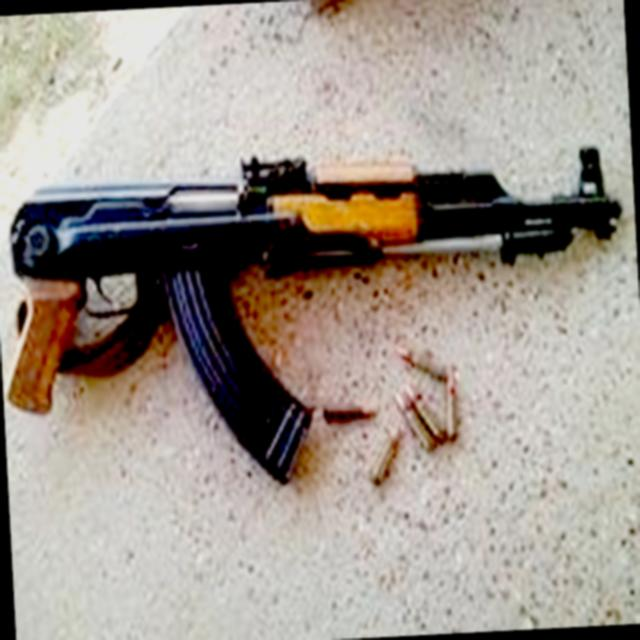ak: (0, 140, 640, 503)
